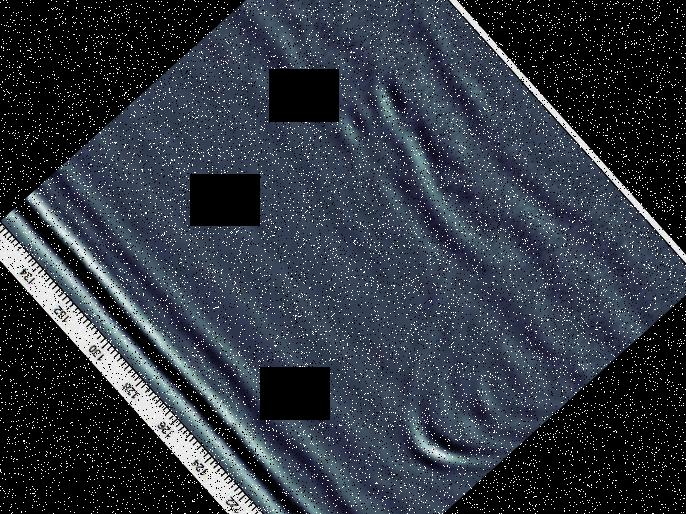Hyperbola: (298, 256, 585, 514)
